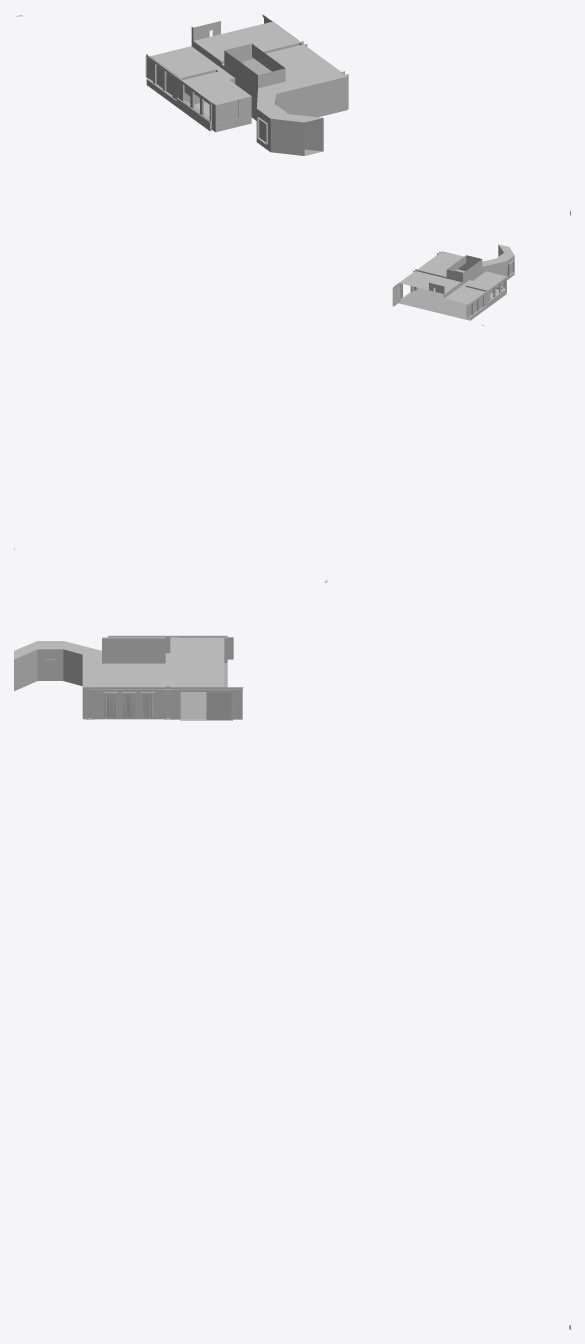
File: room_02_lounge.fbx
3 views of the same model, one above another, from view 1: azimuth 30°, elevation 25°; view 2: azimuth 150°, elevation 25°; view 3: azimuth 270°, elevation 25° (orthographic). The views are drawn at different scales.
Visible parts, largest first — view 1: walls_01, room_02_lounge_curtains_01_zfight_fix, library_01, floor_reflective; view 2: walls_01, floor_reflective; view 3: walls_01, room_02_lounge_curtains_02_zfight_fix.
Part boxes in pixels (x1,y1,x2,y2): walls_01: [146, 14, 348, 155]; room_02_lounge_curtains_01_zfight_fix: [146, 54, 208, 103]; library_01: [217, 99, 238, 123]; floor_reflective: [243, 59, 323, 155]; walls_01: [392, 244, 514, 320]; floor_reflective: [399, 288, 468, 319]; walls_01: [14, 635, 243, 719]; room_02_lounge_curtains_02_zfight_fix: [104, 581, 194, 717].
Size of what is drawn, in the model's own units: 7142 by 4581 by 5323.
